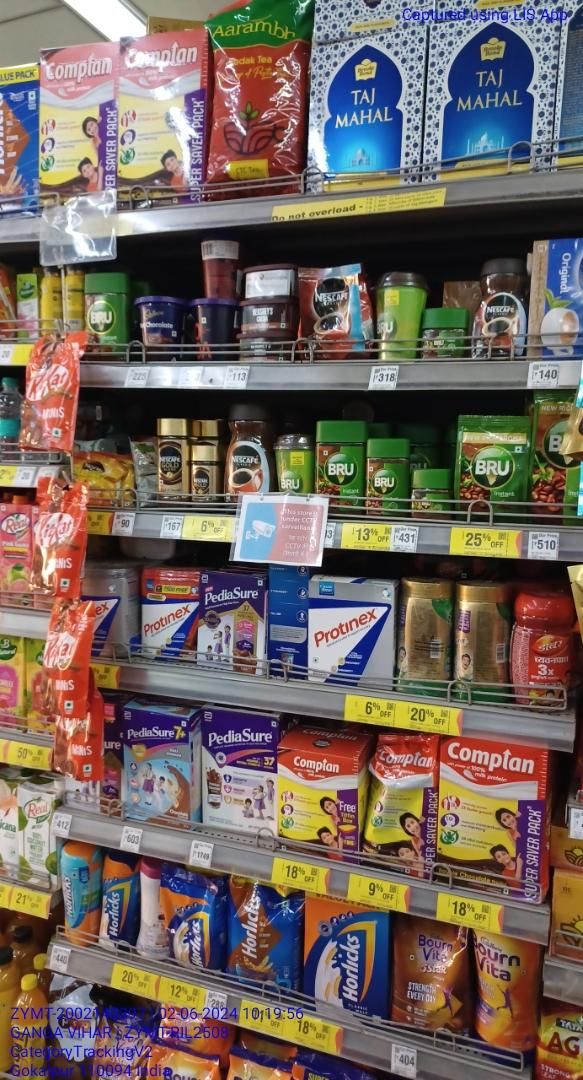BOURN_VITA_FIVE_STAR_MAGIC_750_G_POUCH: (393, 915, 470, 1038)
HORLICKS_LITE_REGULAR_MALT_500_GM_JAR: (57, 845, 97, 943)
HORLICK_CLASSIC_MALT_500_G_JAR: (100, 850, 138, 953)
PEDIASURE_7_PLUS_CHOCOLATE_400_G_PACK: (121, 707, 192, 834)
PEDIASURE_CHOCOLATE_500_G_PACK: (201, 572, 265, 672)
PROTINEX_CHOCOLATE_400_G_JAR: (139, 567, 198, 662)
PROTINEX_ORIGINAL_400_G_JAR: (83, 567, 132, 655)
